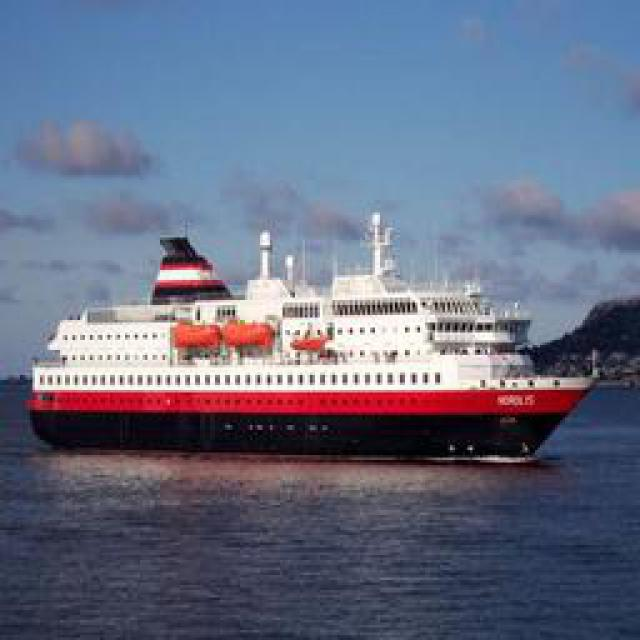Ship: (31, 216, 599, 464)
